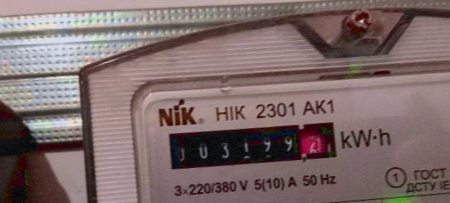0: (173, 141, 187, 164), (196, 139, 210, 160)
1: (240, 134, 252, 154)
3: (218, 139, 231, 159)
6: (308, 138, 319, 155)
9: (261, 133, 274, 154), (282, 132, 295, 152)
screen: (161, 110, 347, 184)
